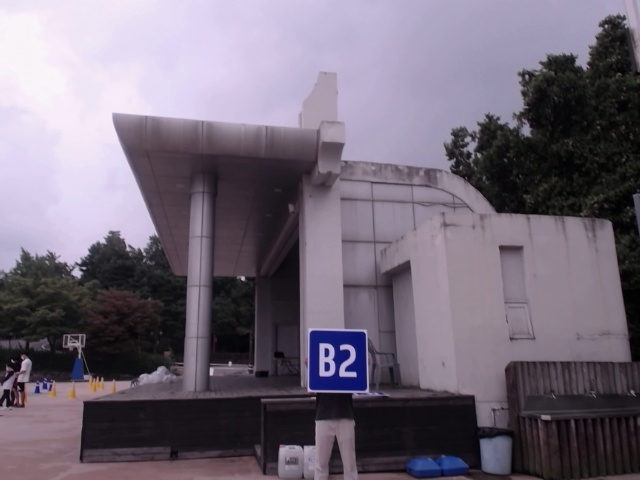delivery_b2: (309, 329, 369, 392)
